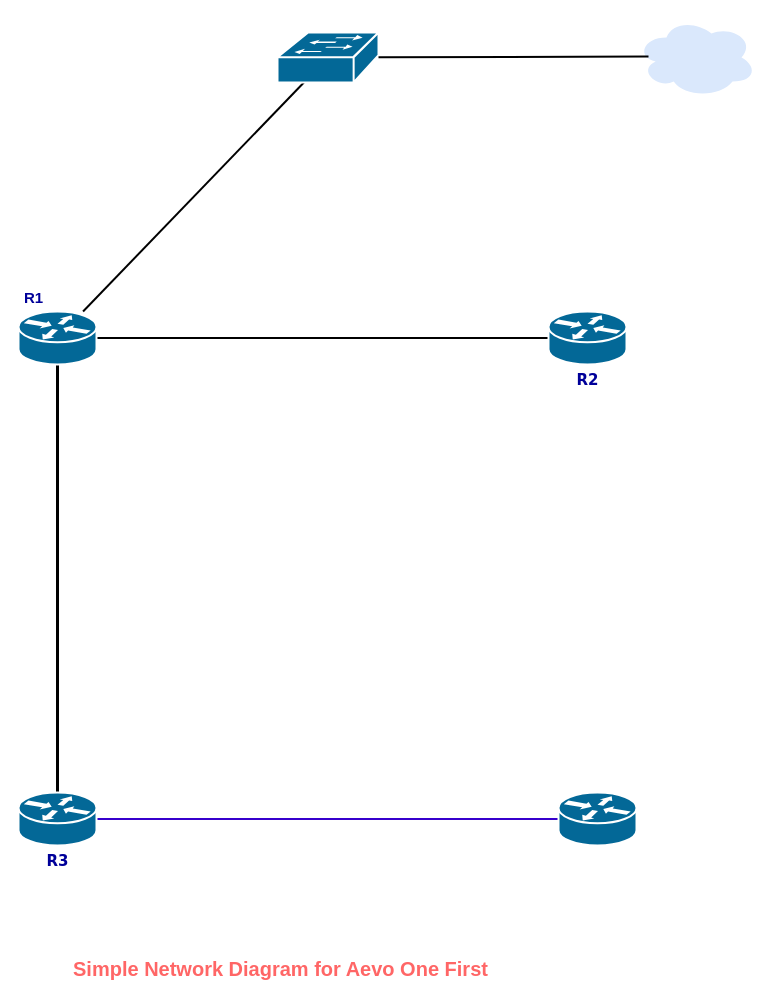
Some shapes in this 773 by 999 pixel diagram are drawn without their labels. Each missing label, with the centre of its shape:
"R4" goes at pixel 597 818.
"SW1" goes at pixel 327 57.
